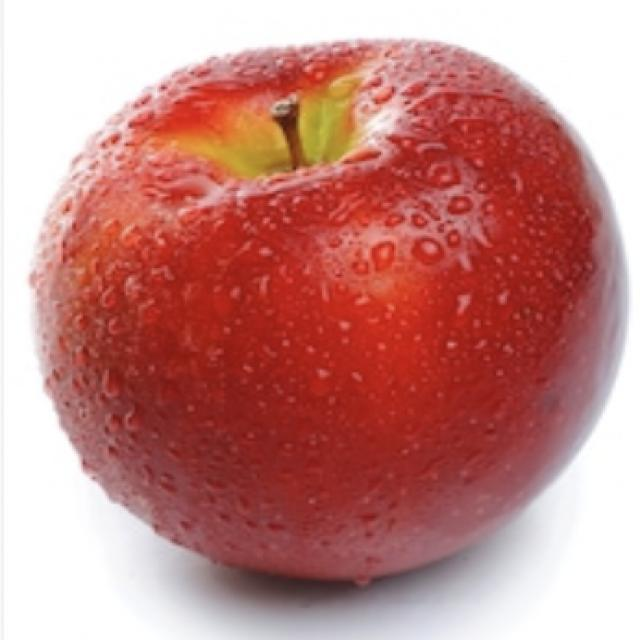Fresh Apple: (63, 57, 617, 570)
